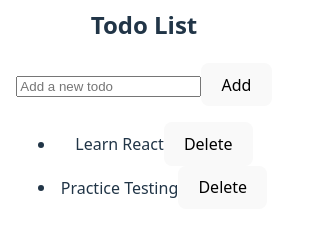
Test: TodoList Component › deletes a todo
The width and height of the screenshot is (320, 225).
// ✅ find the delete button directly using test id
Click the button with test id "delete-Practice Testing" at (223,187), box [178,166,267,209]
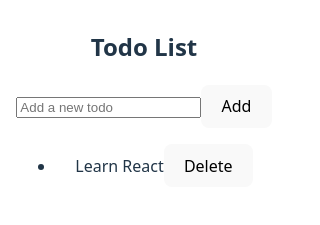
Expected: the text "Practice Testing" is gone
